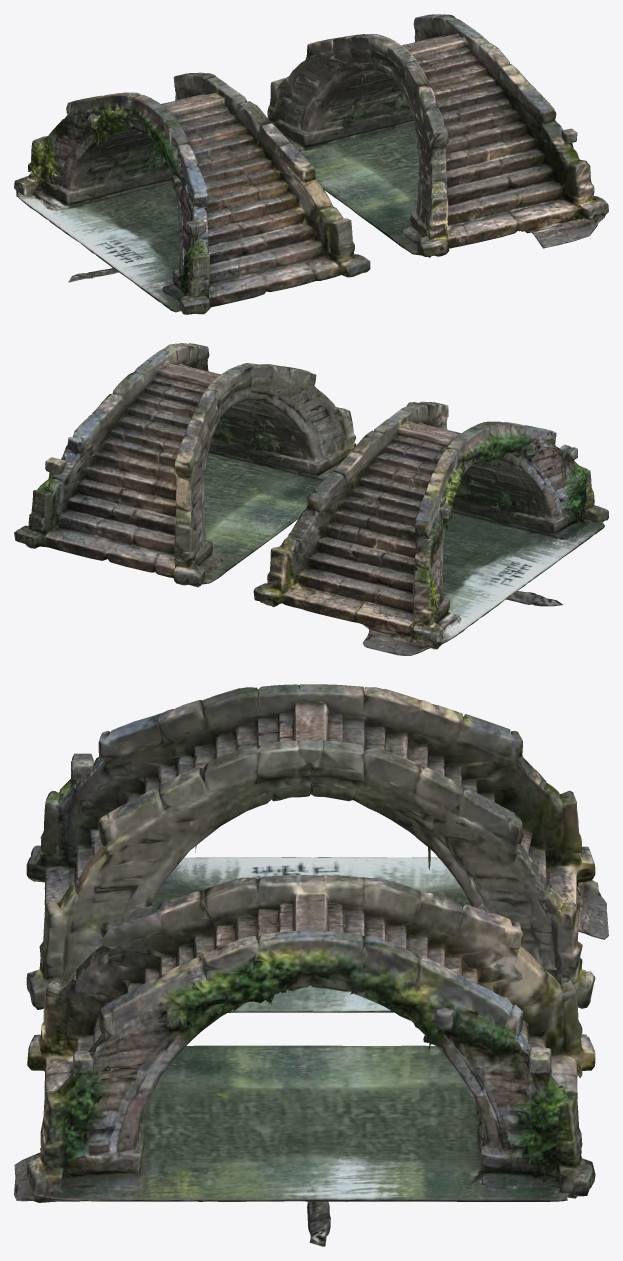
The model's file is preview.fd3b7fc4b565.glb.
3 views of the same model, one above another, from view 1: azimuth 30°, elevation 25°; view 2: azimuth 150°, elevation 25°; view 3: azimuth 270°, elevation 25° (orthographic). The views are drawn at different scales.
Parts seen in each view (by area): view 1: tripo_node_184b8159-52d0-4c24-ab67-352f448b8862; view 2: tripo_node_184b8159-52d0-4c24-ab67-352f448b8862; view 3: tripo_node_184b8159-52d0-4c24-ab67-352f448b8862.
Boxes of the visible parts, left/top/right/bottom form: tripo_node_184b8159-52d0-4c24-ab67-352f448b8862: left=14, top=14, right=608, bottom=314; tripo_node_184b8159-52d0-4c24-ab67-352f448b8862: left=14, top=343, right=608, bottom=655; tripo_node_184b8159-52d0-4c24-ab67-352f448b8862: left=14, top=684, right=608, bottom=1246.
Bounding box in the file's own units: 0.9829 × 0.2996 × 0.6358.
Materials: 1 (1 with a texture image).
